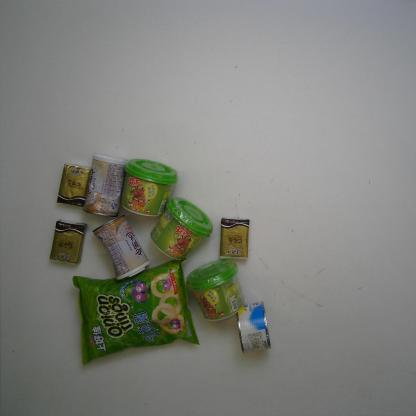Canned Food: (92, 213, 147, 281), (82, 150, 125, 218), (238, 302, 272, 352)
Instant Drink: (150, 198, 212, 264), (187, 257, 248, 321), (120, 157, 179, 220)
Puffed Food: (72, 260, 206, 367)
Tissue: (50, 220, 86, 266), (55, 160, 90, 204), (219, 217, 252, 261)
